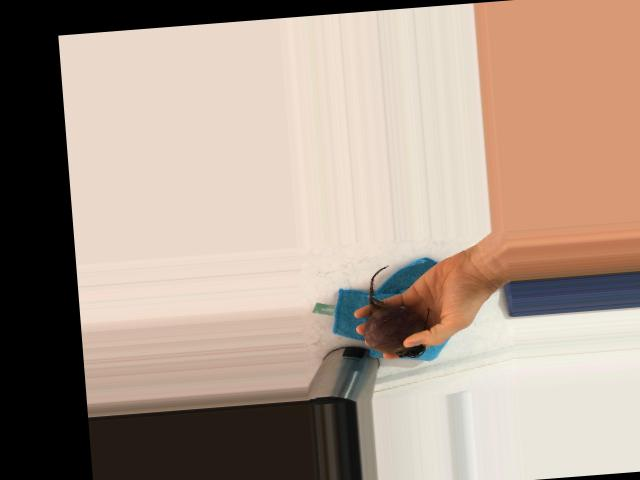beet: (358, 262, 431, 361)
